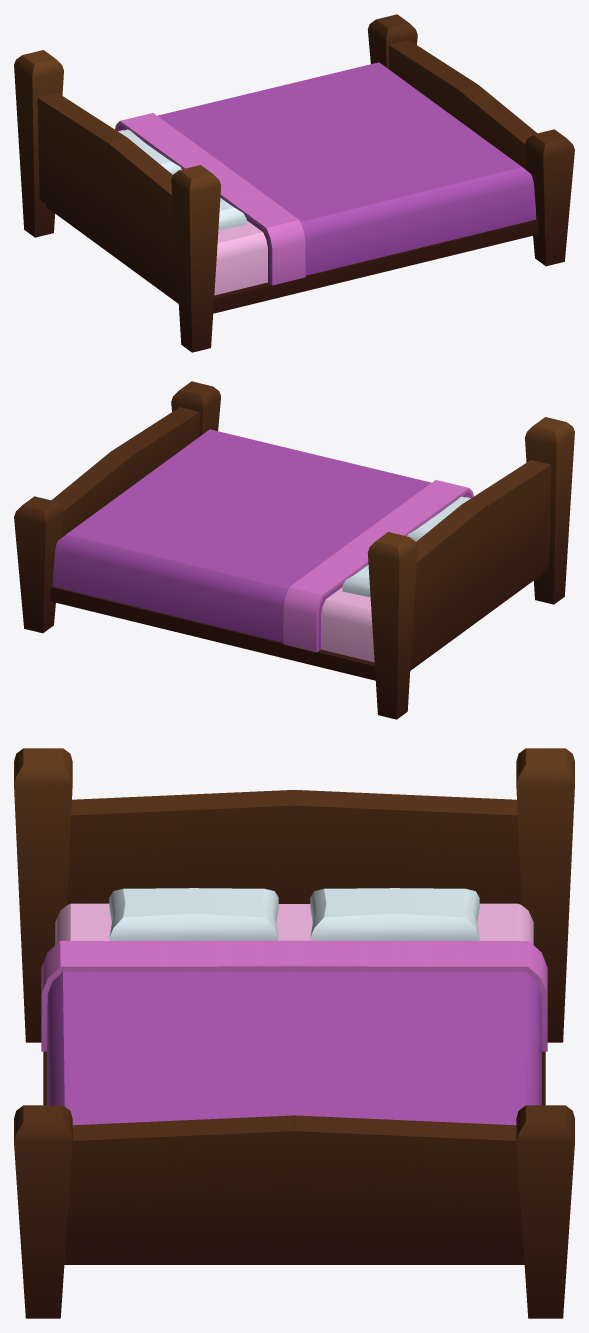
Rendered from DoubleBed.fbx.
3 views of the same model, one above another, from view 1: azimuth 30°, elevation 25°; view 2: azimuth 150°, elevation 25°; view 3: azimuth 270°, elevation 25° (orthographic). The views are drawn at different scales.
Parts seen in each view (by area): view 1: DoubleBed2; view 2: DoubleBed2; view 3: DoubleBed2.
Part boxes in pixels (x1=…): DoubleBed2: x1=14, y1=14, x2=574, y2=352; DoubleBed2: x1=14, y1=381, x2=574, y2=719; DoubleBed2: x1=14, y1=748, x2=574, y2=1318.
Size of the model in its own units: 283 by 122 by 223.
